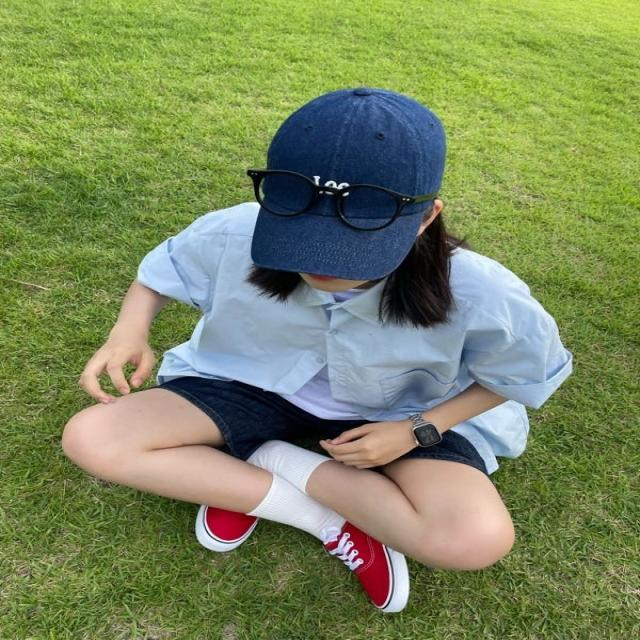shirt: (134, 203, 574, 479)
shortpants: (161, 370, 499, 478)
